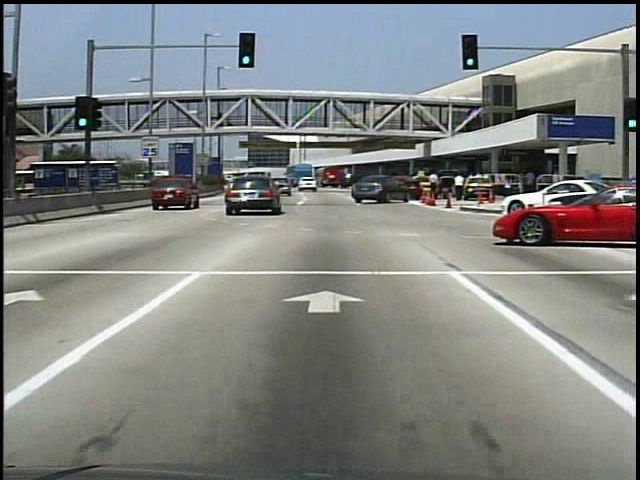person: (426, 170, 443, 206), (501, 175, 517, 209), (453, 173, 469, 202), (523, 173, 536, 194), (216, 113, 226, 131)
